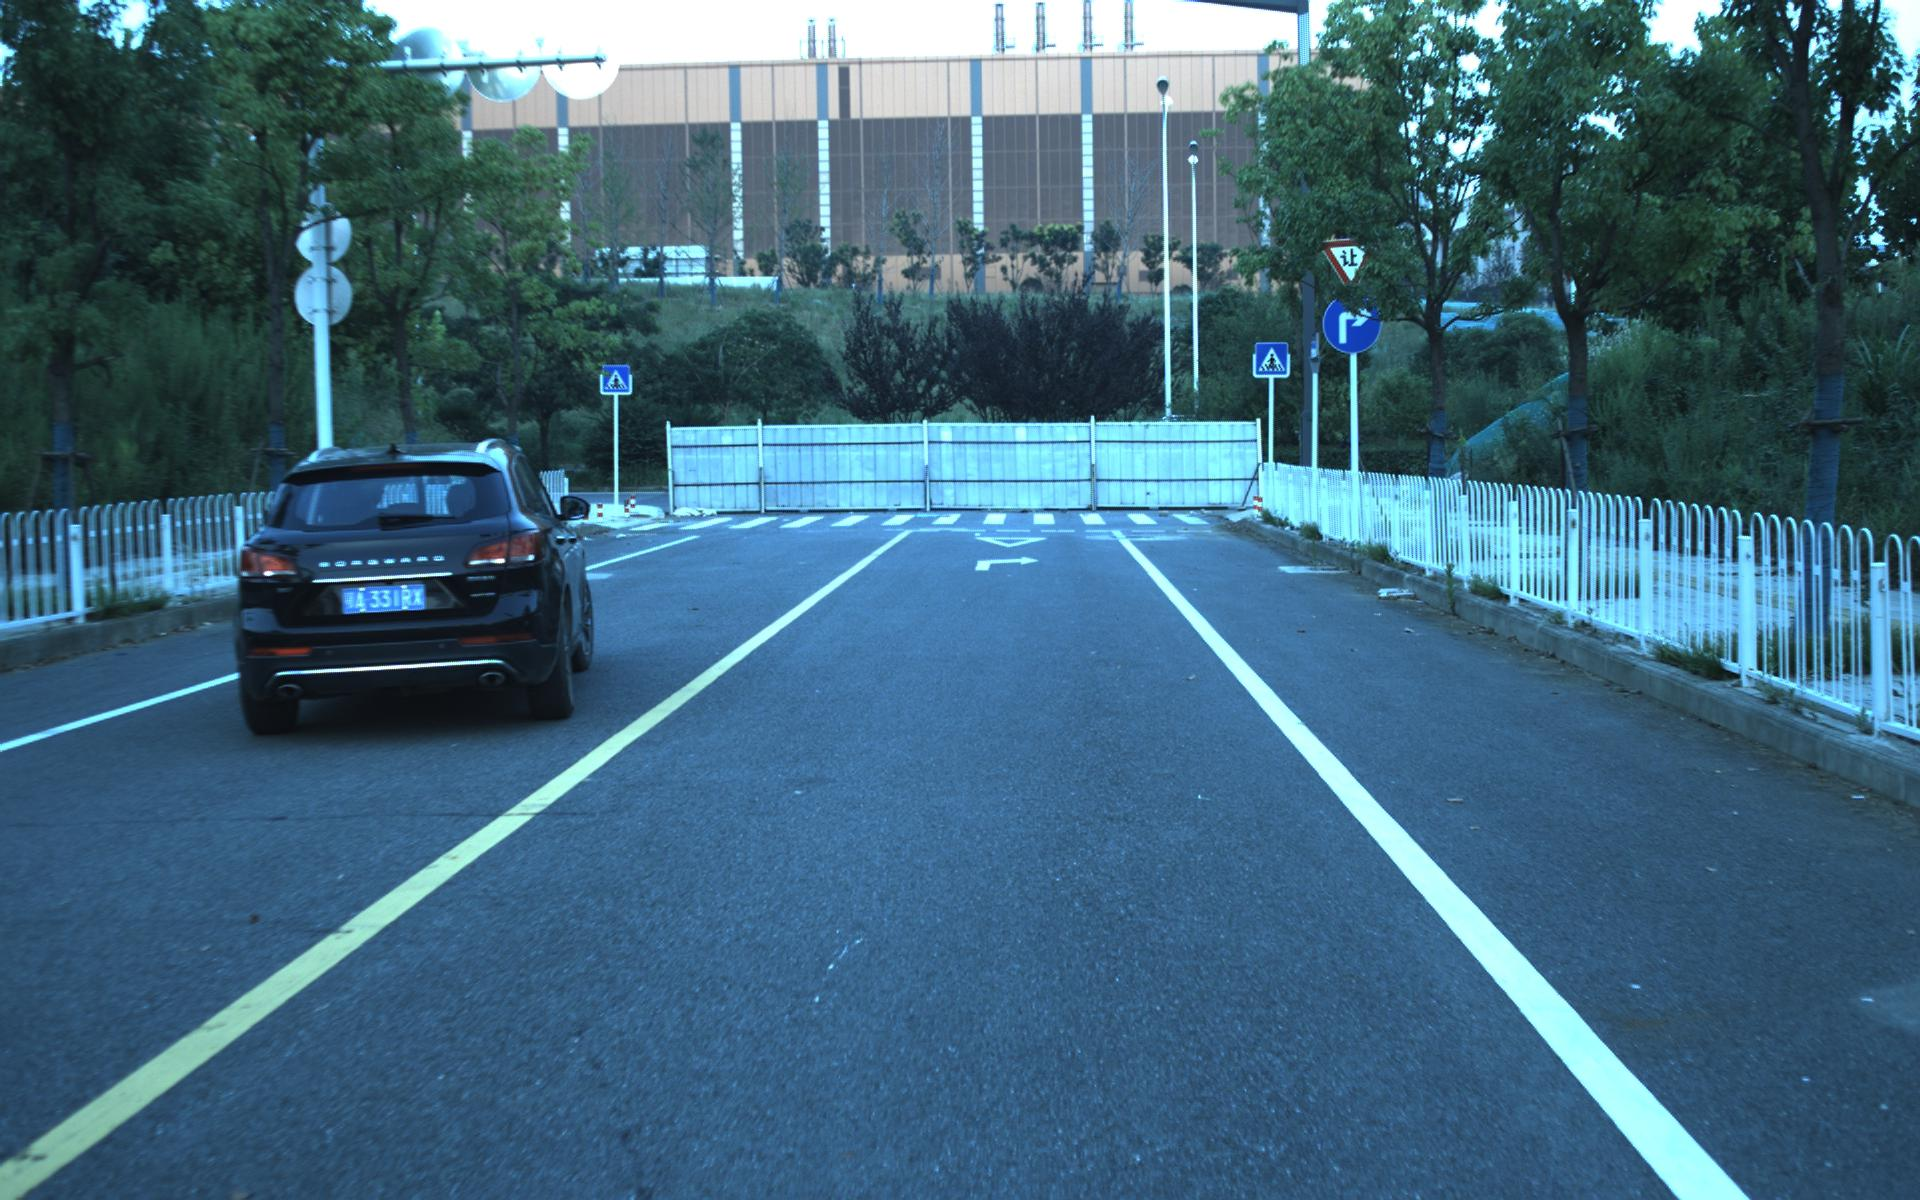Car: (217, 433, 603, 742)
